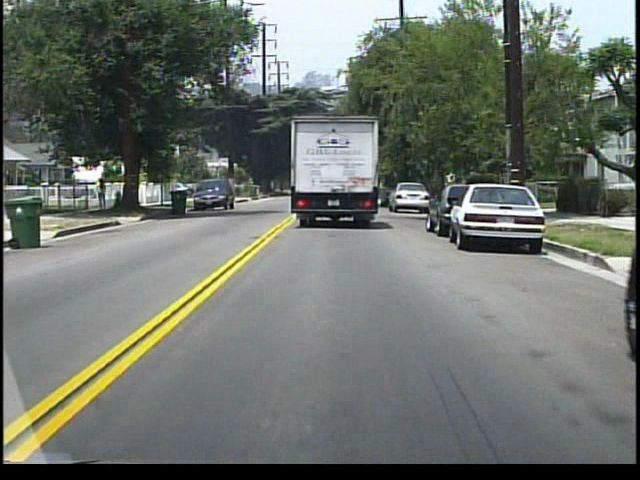person: (99, 178, 112, 212)
